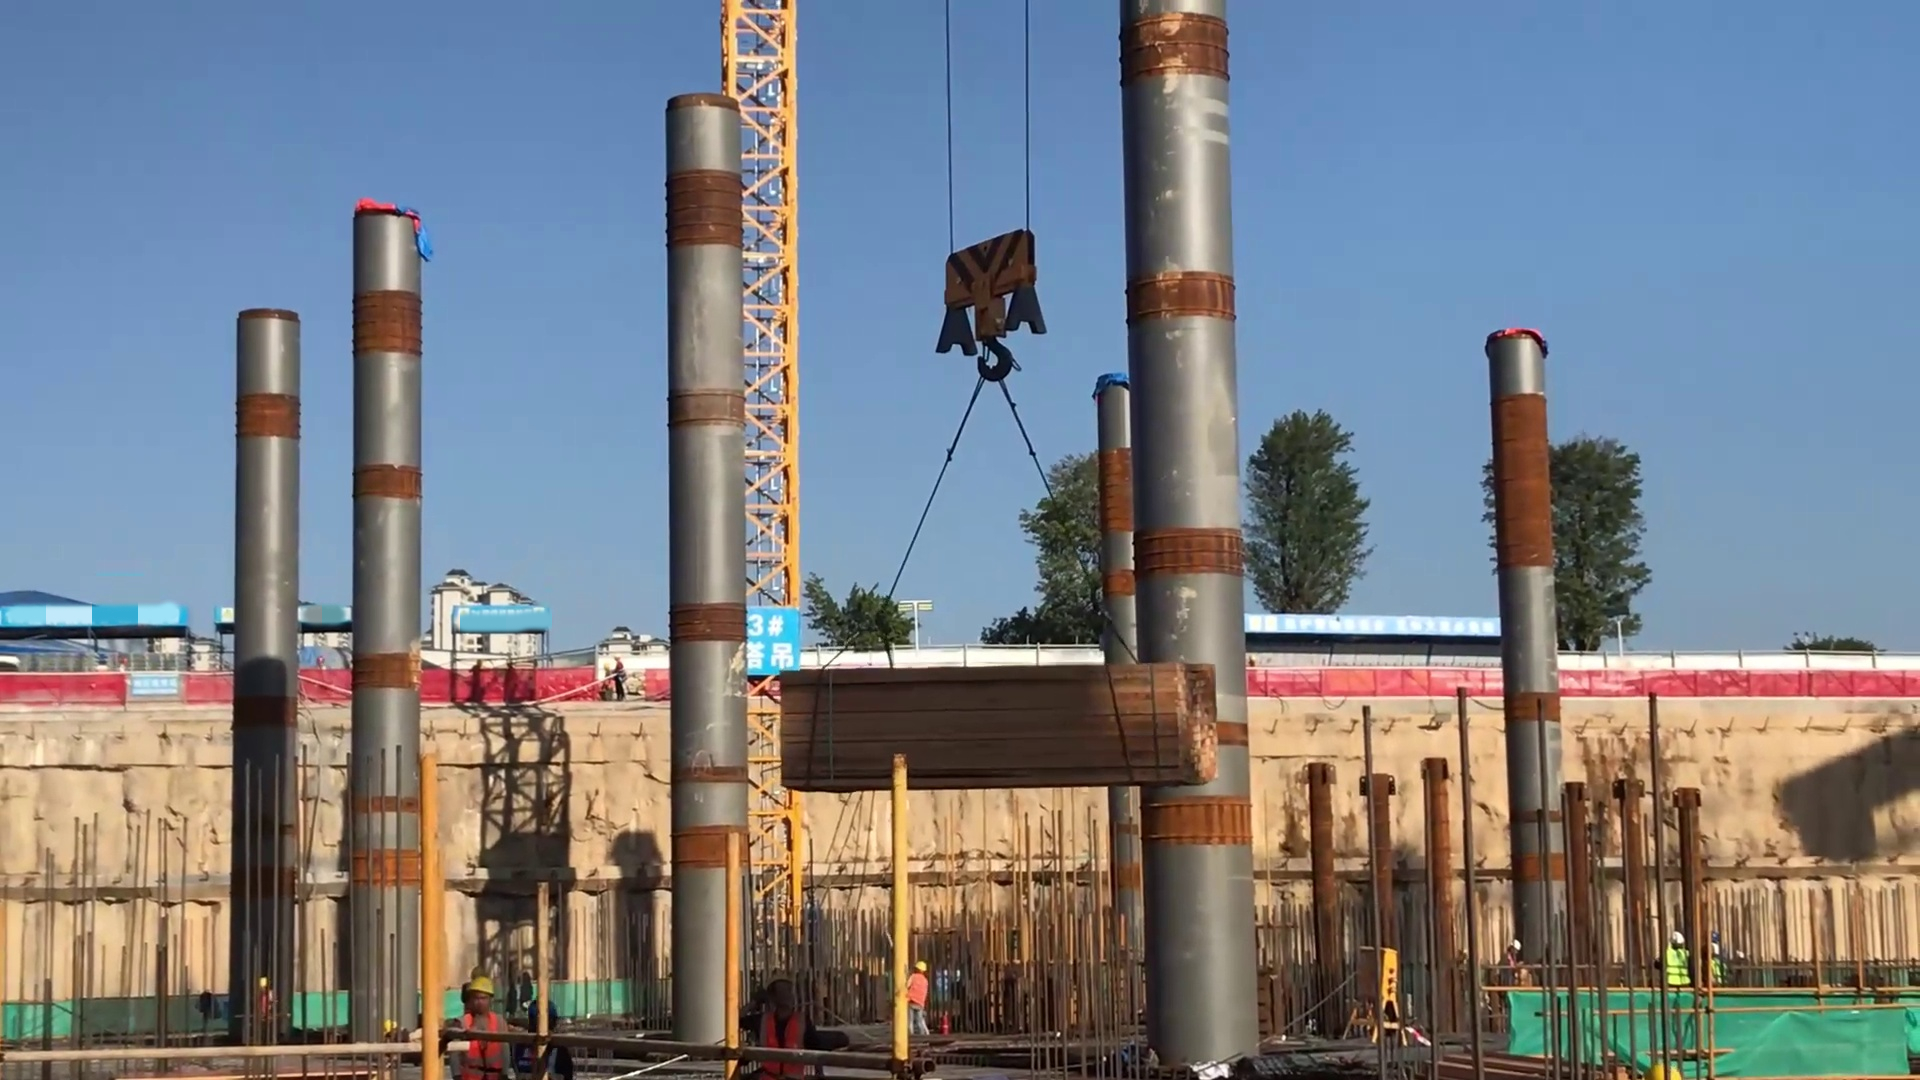helmet: (454, 970, 512, 1004), (247, 970, 283, 996), (765, 969, 794, 997), (1502, 931, 1525, 953)
person: (752, 977, 812, 1076), (452, 979, 502, 1080), (904, 951, 938, 1046)
vest: (765, 1004, 813, 1068), (459, 1010, 508, 1068), (252, 988, 294, 1019), (250, 986, 292, 1017), (1663, 941, 1689, 981), (908, 969, 931, 1014)
